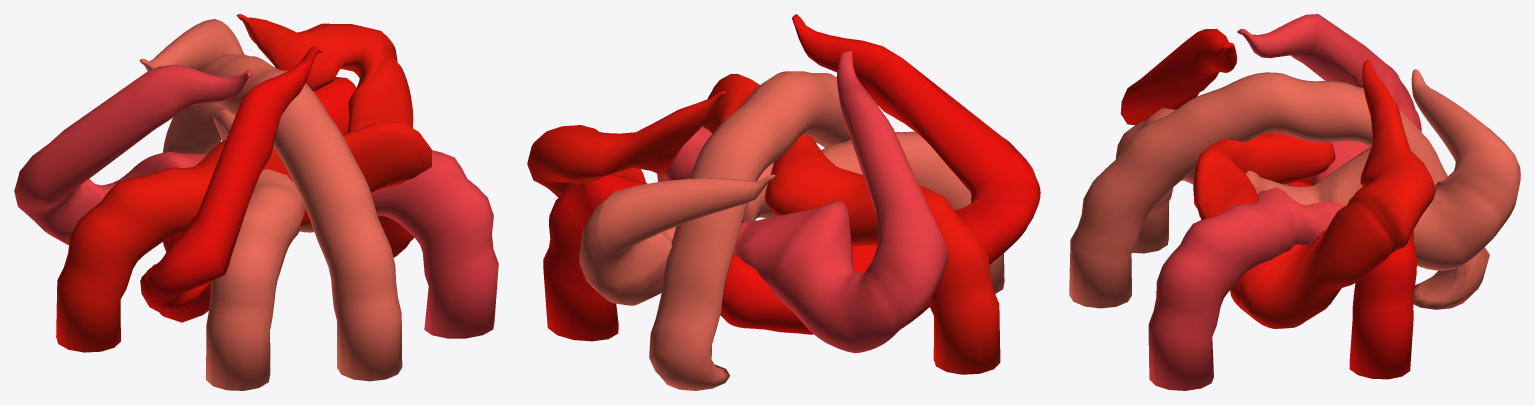
Rendered from Blocking_Trampa_Espinas_Fase_02.fbx.
The picture shows the model from 3 angles, left to right: view 1: azimuth 30°, elevation 25°; view 2: azimuth 150°, elevation 25°; view 3: azimuth 270°, elevation 25°; orthographic projection. The views are drawn at different scales.
Visible parts, largest first — view 1: m_Espina_01; view 2: m_Espina_01; view 3: m_Espina_01.
Boxes of the visible parts, x1=… form: m_Espina_01: x1=14, y1=14, x2=498, y2=390; m_Espina_01: x1=527, y1=14, x2=1040, y2=390; m_Espina_01: x1=1069, y1=14, x2=1520, y2=390.
Bounding box in the file's own units: 555 × 395 × 575.
